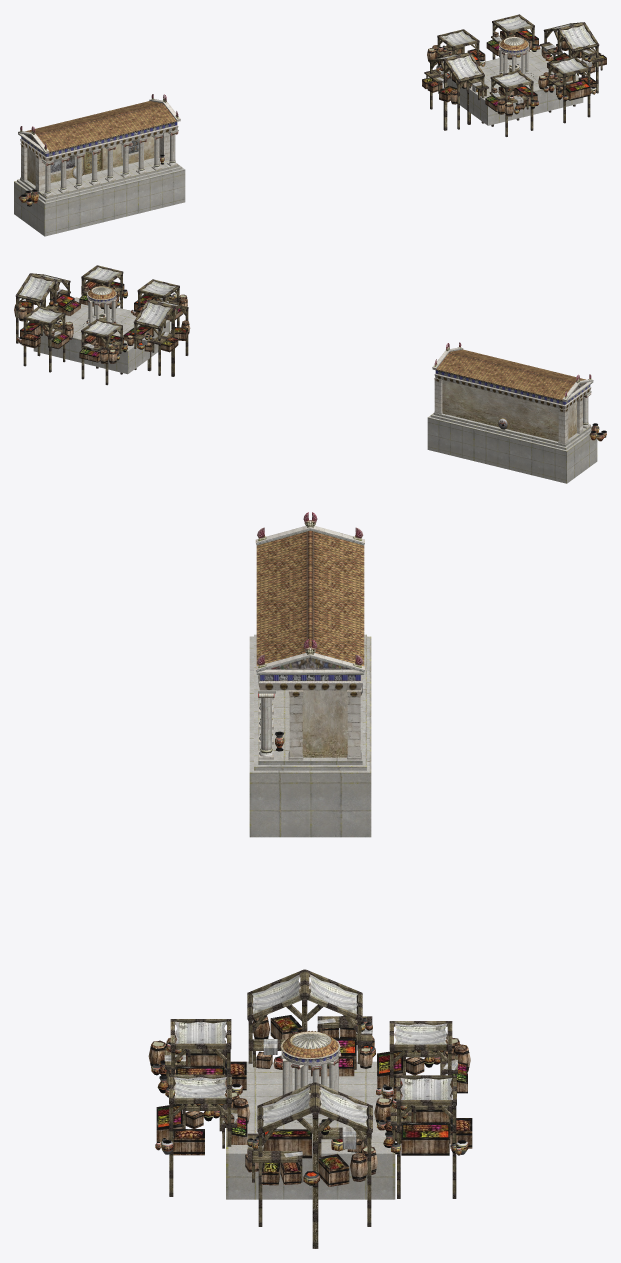
Rendered from agora0ad.glb.
3 views of the same model, one above another, from view 1: azimuth 30°, elevation 25°; view 2: azimuth 150°, elevation 25°; view 3: azimuth 270°, elevation 25° (orthographic). The views are drawn at different scales.
Visible parts, largest first — view 1: stoa, market; view 2: stoa, market; view 3: market, stoa.
Part boxes in pixels (x1,y1,x2,y2): stoa: [14, 94, 185, 236]; market: [422, 14, 606, 136]; stoa: [427, 342, 606, 483]; market: [14, 265, 190, 385]; market: [148, 969, 472, 1248]; stoa: [249, 512, 371, 837].
Size of the model in its own units: 2.81 by 0.4726 by 0.6827.
Materials: 10 (10 with a texture image).
